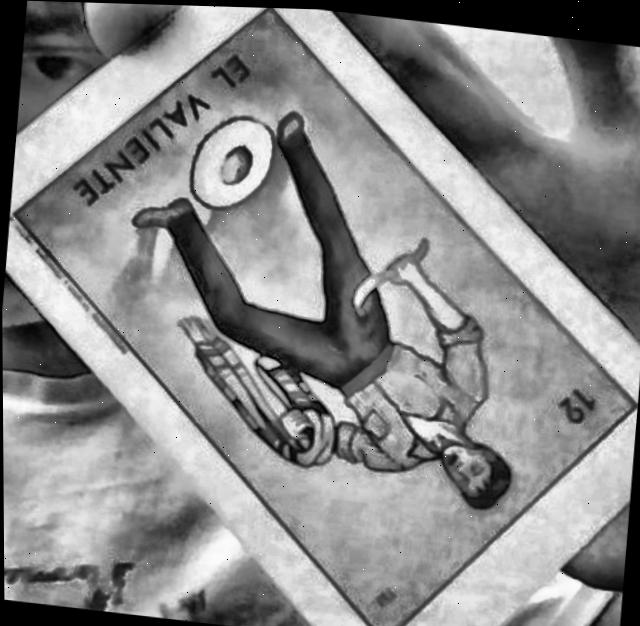El Valiente: (22, 6, 635, 626)
